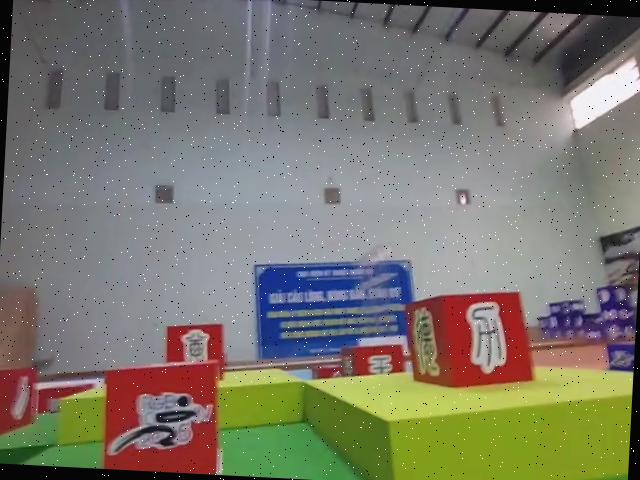R1: (97, 350, 224, 475)
R2 Fake: (398, 282, 539, 391)
R2 Real: (0, 360, 36, 444)
